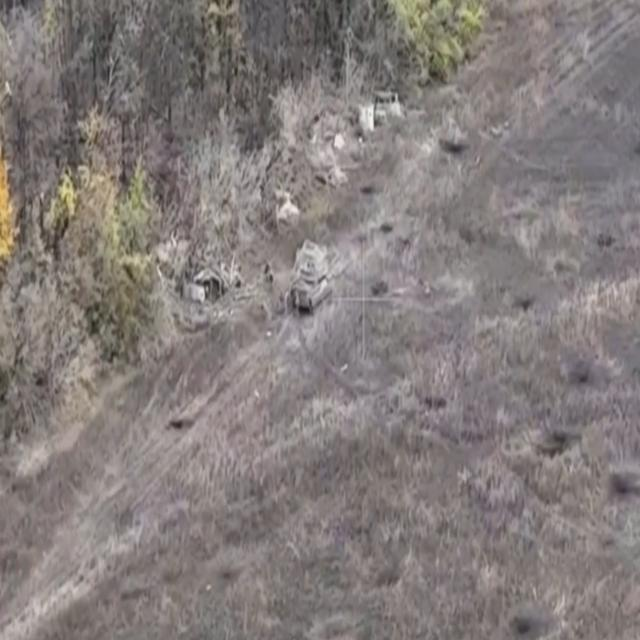infantry: (264, 257, 270, 282), (270, 271, 275, 292)
vehicle: (290, 239, 330, 314)
